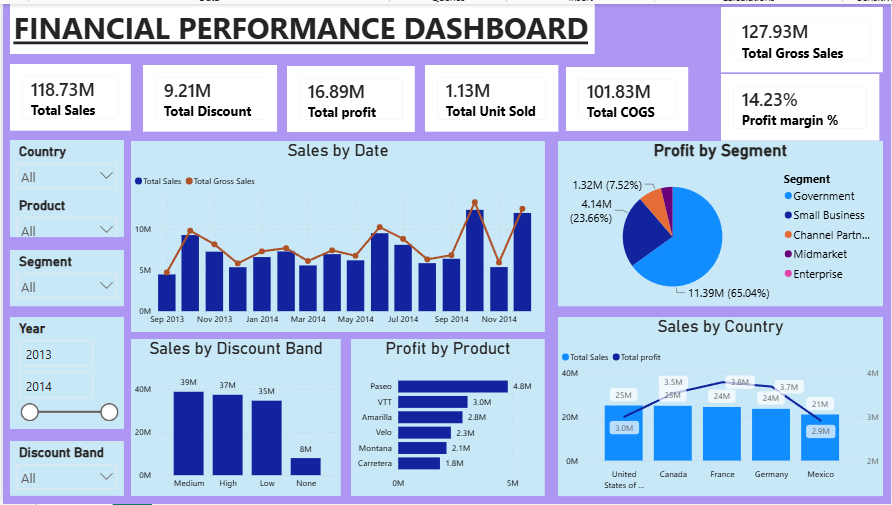

What the dashboard file says about the page in this screenshot:
{"tool":"powerbi","page":{"name":"Page 1","canvas":[1280,720],"ordinal":0},"visuals":[{"type":"cardVisual","fields":{"Data":["Finance_data.Total Sales"]},"box":[0,106.6,174.2,106.6],"z":0},{"type":"cardVisual","fields":{"Data":["Finance_data.Total profit"]},"box":[374.4,106.6,184.3,109.4],"z":1000},{"type":"cardVisual","fields":{"Data":["Finance_data.Total Unit Sold"]},"box":[573.1,106.6,207.4,108],"z":2000},{"type":"cardVisual","fields":{"Data":["Finance_data.Total Gross Sales"]},"box":[799.2,105.1,203,108],"z":3000},{"type":"cardVisual","fields":{"Data":["Finance_data.Profit margin %"]},"box":[1041.1,108,226.1,106.6],"z":4000},{"type":"cardVisual","fields":{"Data":["Finance_data.Total COGS"]},"box":[1041.1,0,226.1,105.1],"z":5000},{"type":"cardVisual","fields":{"Data":["Finance_data.Total Discount"]},"box":[184.3,106.6,177.1,106.6],"z":6000},{"type":"lineClusteredColumnComboChart","title":" Sales by Country","fields":{"Category":["Finance_data.Country"],"Y":["Finance_data.Total Sales"],"Y2":["Finance_data.Total profit"]},"box":[799.2,472.3,468,236.2],"z":7000},{"type":"clusteredBarChart","title":"Profit by Product","fields":{"Category":["Finance_data.Product"],"Y":["Sum(Finance_data.Profit)"]},"box":[501.1,482.4,279.4,226.1],"z":8000},{"type":"lineClusteredColumnComboChart","title":"Sales by Date","fields":{"Category":["Finance_data.Date"],"Y":["Finance_data.Total Sales"],"Y2":["Finance_data.Total Gross Sales"]},"box":[184.3,226.1,596.2,246.2],"z":9000},{"type":"pieChart","title":"Profit by Segment","fields":{"Category":["Finance_data.Segment"],"Y":["Sum(Finance_data.Profit)"]},"box":[799.2,226.1,468,237.6],"z":10000},{"type":"clusteredColumnChart","title":"Sales by Discount Band","fields":{"Category":["Finance_data.Discount Band"],"Y":["Sum(Finance_data. Sales)"]},"box":[184.3,482.4,302.4,226.1],"z":11000},{"type":"slicer","fields":{"Values":["Finance_data.Country"]},"box":[10.1,227.5,164.2,73.4],"z":13000},{"type":"slicer","fields":{"Values":["Finance_data.Segment"]},"box":[10.1,391.7,164.2,80.6],"z":14000},{"type":"slicer","fields":{"Values":["Finance_data.Product"]},"box":[10.1,308.2,164.2,73.4],"z":15000},{"type":"slicer","fields":{"Values":["Finance_data.Discount Band"]},"box":[10.1,482.4,164.2,79.2],"z":16000},{"type":"slicer","fields":{"Values":["Finance_data.Year"]},"box":[10.1,574.6,164.2,133.9],"z":17000}]}

Visuals, with their boxes in screenshot pixels (x1, y1, x2, y2), scaled from the page's 1280x720 canvas onto the 892x505 screenshot:
cardVisual - Finance_data.Total Sales: bbox=(0, 75, 121, 150)
cardVisual - Finance_data.Total profit: bbox=(261, 75, 389, 152)
cardVisual - Finance_data.Total Unit Sold: bbox=(399, 75, 544, 151)
cardVisual - Finance_data.Total Gross Sales: bbox=(557, 74, 698, 149)
cardVisual - Finance_data.Profit margin %: bbox=(726, 76, 883, 151)
cardVisual - Finance_data.Total COGS: bbox=(726, 0, 883, 74)
cardVisual - Finance_data.Total Discount: bbox=(128, 75, 252, 150)
" Sales by Country" lineClusteredColumnComboChart: bbox=(557, 331, 883, 497)
"Profit by Product" clusteredBarChart: bbox=(349, 338, 544, 497)
"Sales by Date" lineClusteredColumnComboChart: bbox=(128, 159, 544, 331)
"Profit by Segment" pieChart: bbox=(557, 159, 883, 325)
"Sales by Discount Band" clusteredColumnChart: bbox=(128, 338, 339, 497)
slicer - Finance_data.Country: bbox=(7, 160, 121, 211)
slicer - Finance_data.Segment: bbox=(7, 275, 121, 331)
slicer - Finance_data.Product: bbox=(7, 216, 121, 268)
slicer - Finance_data.Discount Band: bbox=(7, 338, 121, 394)
slicer - Finance_data.Year: bbox=(7, 403, 121, 497)
